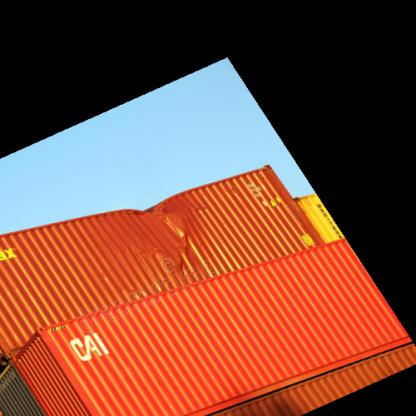Damage: (137, 202, 212, 260)
